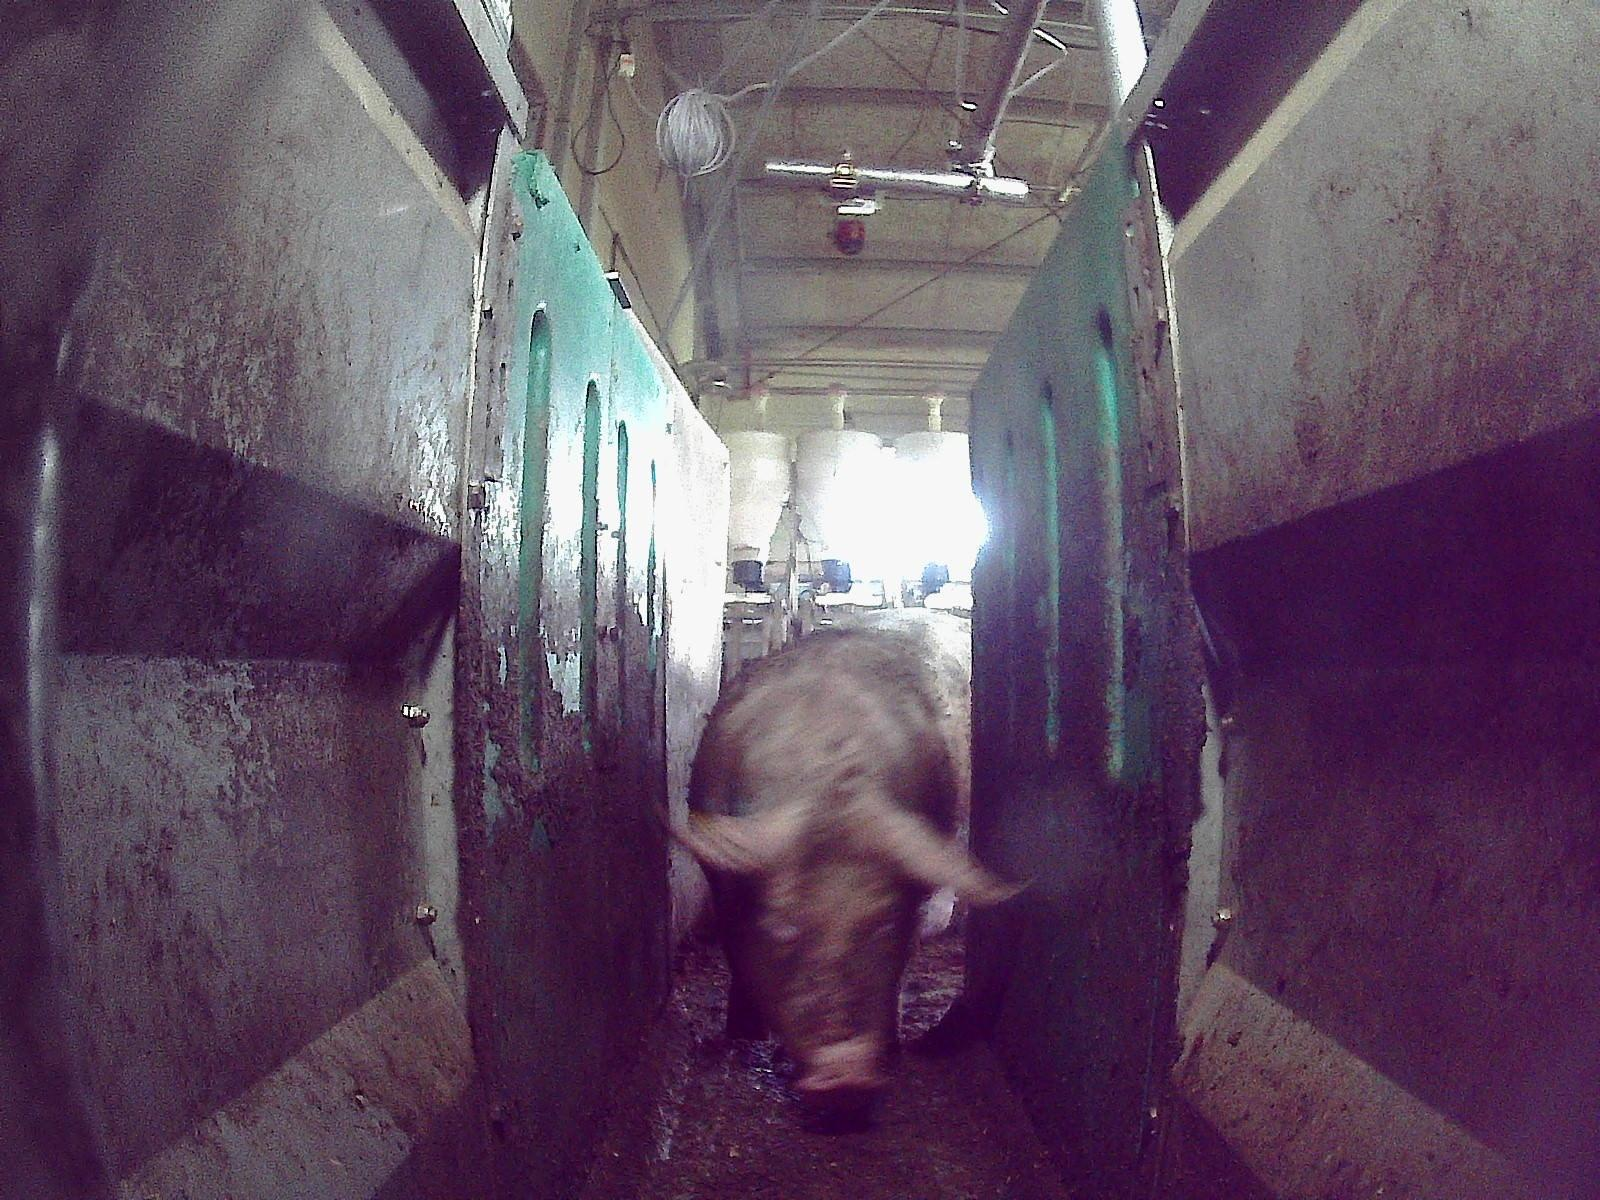Face: (725, 799, 916, 1104)
